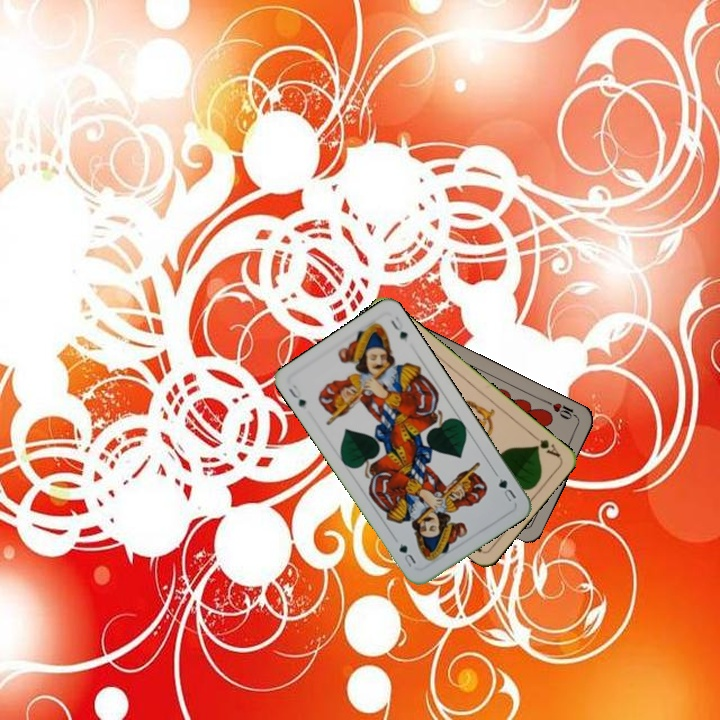GA: (528, 430, 563, 460)
GU: (494, 474, 519, 505), (284, 381, 309, 410)
H10: (543, 397, 580, 422)
